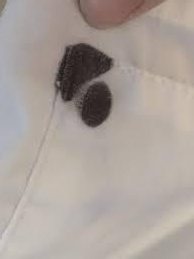ink: (60, 41, 113, 97), (83, 84, 112, 125)
